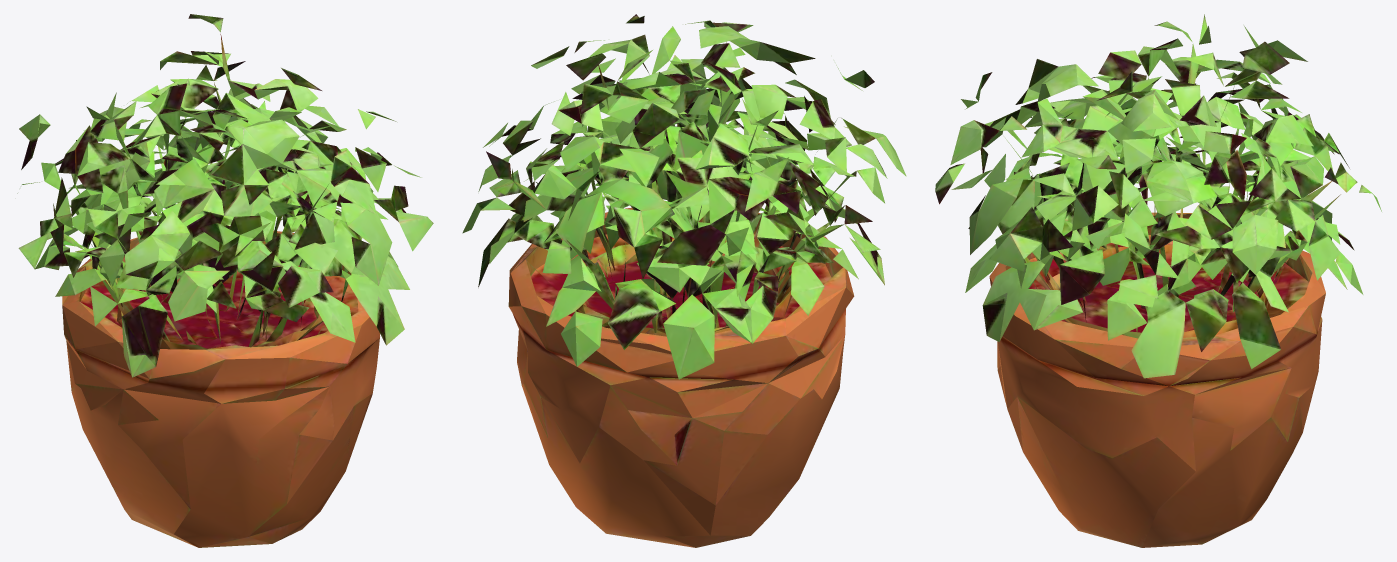
Rendered from herb_pot.glb.
The picture shows the model from 3 angles, left to right: view 1: azimuth 30°, elevation 25°; view 2: azimuth 150°, elevation 25°; view 3: azimuth 270°, elevation 25°; orthographic projection. The views are drawn at different scales.
Bounding box in the file's own units: 1.59 × 1.85 × 1.57.
1 material, 1 textured.
